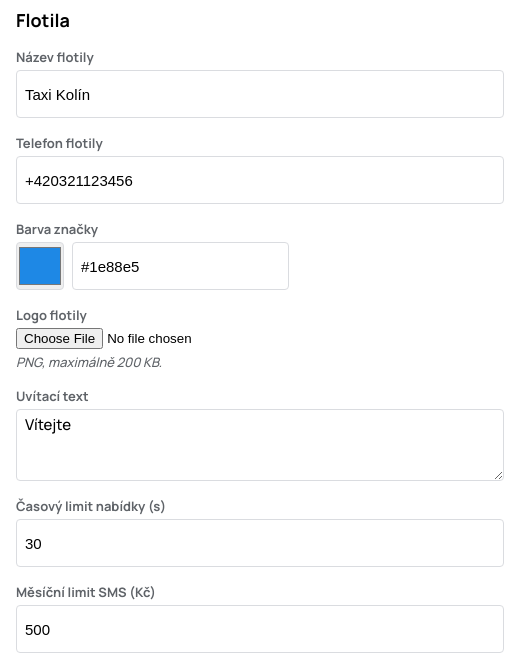
Scenario: FleetTab — self-service form (UC-007 A6) › blocks save and shows an error when the color hex is malformed
This screenshot has width=521, height=653.
Expected: the field showing "Taxi Kolín" is shown, [16,70,504,118]
Replace the text in the field named "Barevný kód" with "notacolor" at {"x": 180, "y": 266}, box [72,242,289,290]
(page scrolled)
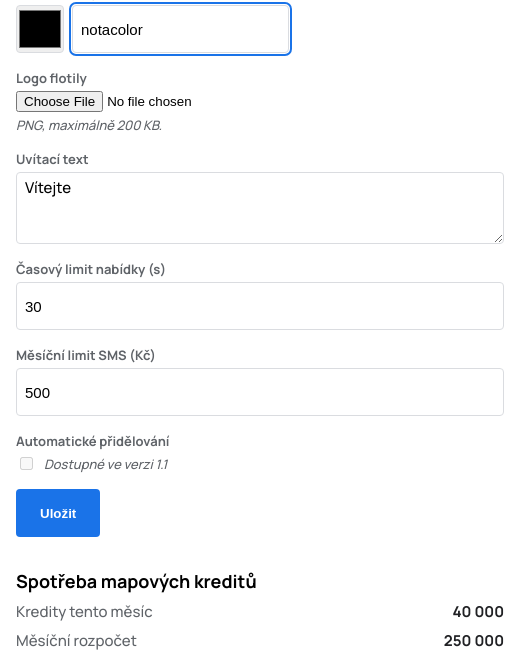
Click the button "Uložit" at {"x": 58, "y": 513}, box [16,489,100,537]
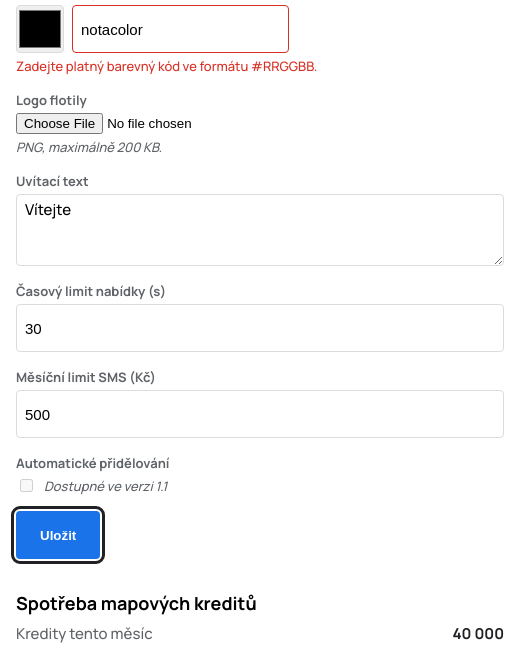
Result: the text "Zadejte platný barevný kód ve formátu #RRGGBB." is shown at [16,57,317,75]
